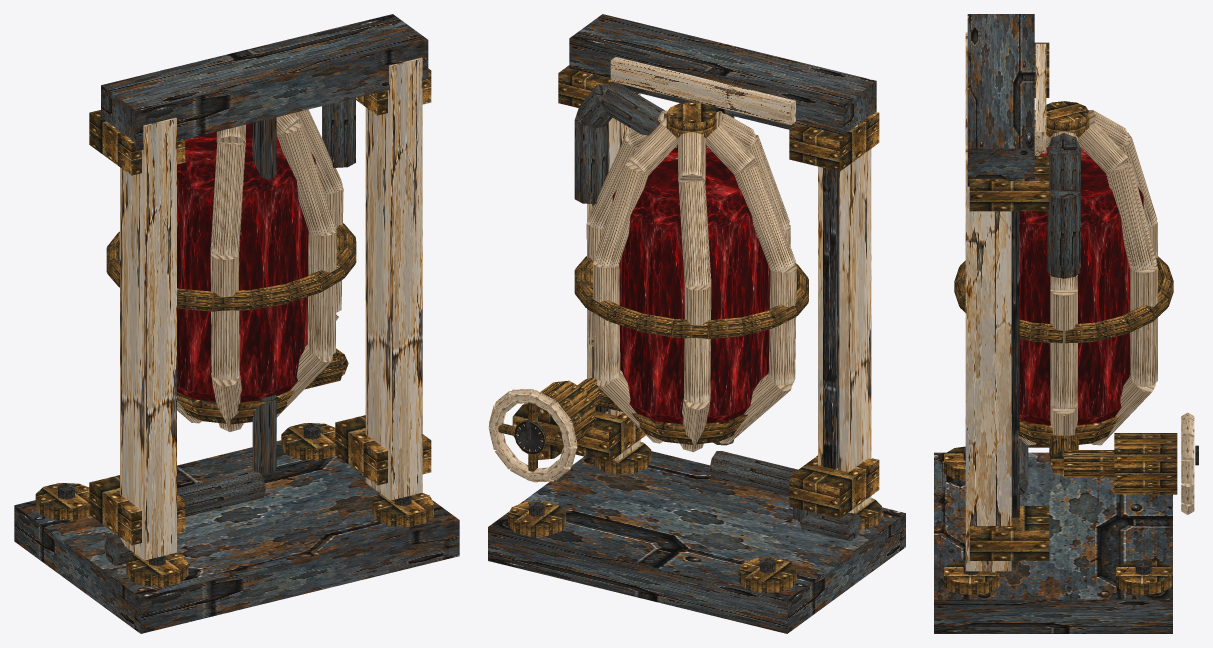
The model's file is organic-valve-cage.gltf.
3 renders of one model, left to right at view 1: azimuth 30°, elevation 25°; view 2: azimuth 150°, elevation 25°; view 3: azimuth 270°, elevation 25°, orthographic. The views are drawn at different scales.
Visible parts, largest first — view 1: FloorPlinth, RearColumn_0.32, RearColumn_-0.32, StockVolume, Header, OrganicCageRib2_2, OrganicCageRib2_1, RearFeed_0, OrganicCageRib1_1, OrganicCageRib1_2, ColumnBracket_0.32_0.22, ColumnBracket_-0.32_0.22 (+17 smaller); view 2: FloorPlinth, StockVolume, Header, RearColumn_-0.32, ColumnInset_-0.32, HeaderIvoryInlay, ColumnBracket_-0.32_0.22, ColumnBracket_-0.32_1.14, OrganicCageRib3_2, OrganicCageRib4_2, OrganicCageRib4_1, OrganicCageRib5_1 (+32 smaller); view 3: FloorPlinth, StockVolume, RearColumn_0.32, Header, ValveHousing, ColumnBracket_0.32_0.22, ColumnBracket_0.32_1.14, OrganicCageRib0_1, OrganicCageRib5_2, ReturnValve_2, OrganicCageRib5_1, ColumnInset_0.32 (+21 smaller).
Boxes of the visible parts, x1,y1,x2,y2 form: FloorPlinth: [14, 440, 459, 633]; RearColumn_0.32: [365, 57, 422, 500]; RearColumn_-0.32: [120, 117, 176, 560]; StockVolume: [177, 123, 315, 402]; Header: [101, 14, 428, 151]; OrganicCageRib2_2: [210, 142, 245, 255]; OrganicCageRib2_1: [210, 253, 239, 380]; RearFeed_0: [252, 117, 276, 473]; OrganicCageRib1_1: [307, 228, 336, 356]; OrganicCageRib1_2: [276, 123, 335, 235]; ColumnBracket_0.32_0.22: [335, 415, 431, 485]; ColumnBracket_-0.32_0.22: [89, 475, 185, 545]; FloorPlinth: [488, 451, 905, 633]; StockVolume: [612, 147, 770, 424]; Header: [569, 14, 876, 135]; RearColumn_-0.32: [818, 149, 871, 513]; ColumnInset_-0.32: [823, 168, 839, 469]; HeaderIvoryInlay: [610, 57, 795, 125]; ColumnBracket_-0.32_0.22: [789, 455, 879, 518]; ColumnBracket_-0.32_1.14: [789, 112, 879, 171]; OrganicCageRib3_2: [734, 162, 795, 271]; OrganicCageRib4_2: [678, 180, 711, 286]; OrganicCageRib4_1: [684, 284, 711, 403]; OrganicCageRib5_1: [593, 260, 620, 381]; FloorPlinth: [934, 452, 1172, 633]; StockVolume: [1011, 147, 1143, 425]; RearColumn_0.32: [965, 145, 1011, 571]; Header: [967, 14, 1034, 186]; ValveHousing: [1114, 433, 1177, 494]; ColumnBracket_0.32_0.22: [969, 506, 1049, 560]; ColumnBracket_0.32_1.14: [969, 156, 1049, 211]; OrganicCageRib0_1: [1050, 290, 1077, 409]; OrganicCageRib5_2: [1106, 162, 1157, 271]; ReturnValve_2: [1047, 192, 1080, 278]; OrganicCageRib5_1: [1130, 265, 1157, 386]; ColumnInset_0.32: [1012, 211, 1019, 517].
Size of the model in its own units: 0.83 by 1.26 by 0.6315.
7 materials, 7 textured.
